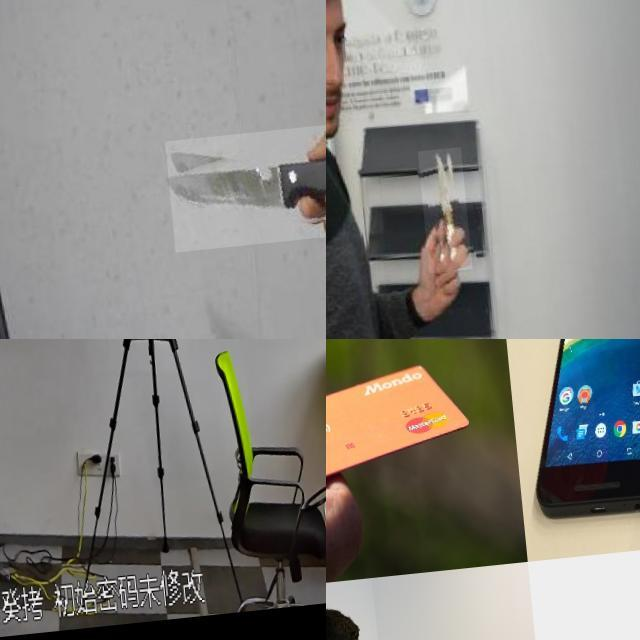-: (158, 127, 326, 257), (412, 156, 464, 280)
gun-knife-thesis - v11 Yolov5 augmented: (0, 339, 25, 380)
